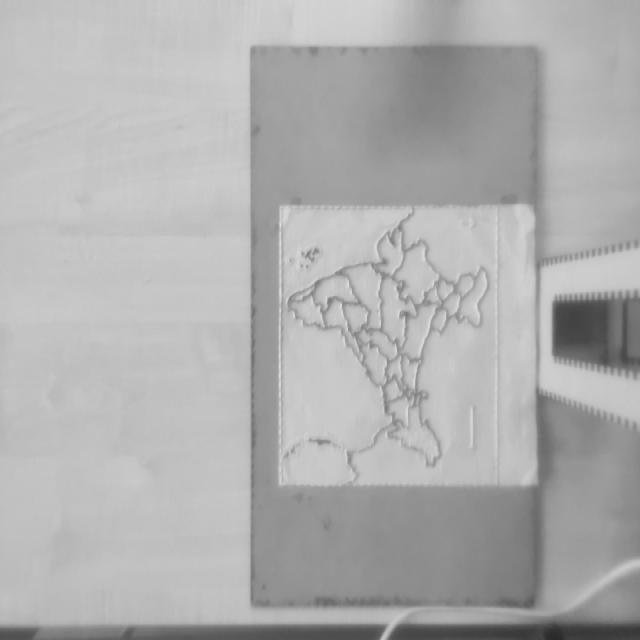map: (279, 204, 498, 486)
